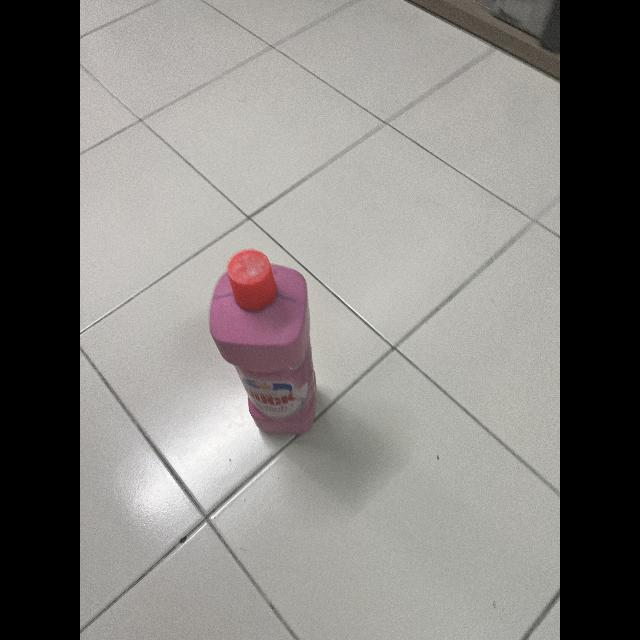chemical_plastic_bottle: (206, 246, 320, 436)
